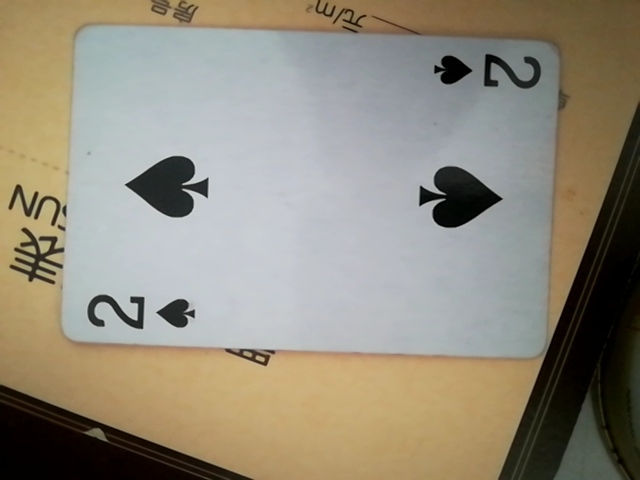ht 2: (52, 24, 563, 364)
